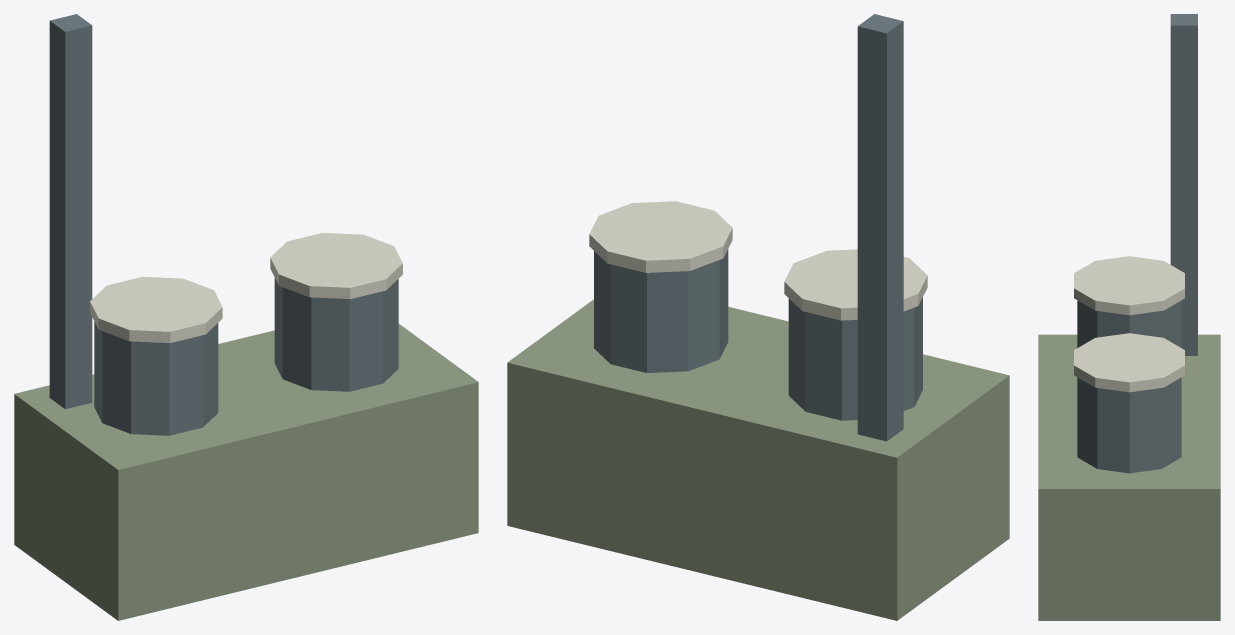
Rendered from zombie-quarantine-streets-field-kitchen-f8e65228__19351.glb.
The picture shows the model from 3 angles, left to right: view 1: azimuth 30°, elevation 25°; view 2: azimuth 150°, elevation 25°; view 3: azimuth 270°, elevation 25°; orthographic projection. The views are drawn at different scales.
Parts seen in each view (by area): view 1: field-kitchen; view 2: field-kitchen; view 3: field-kitchen.
Boxes of the visible parts, x1,y1,x2,y2 form: field-kitchen: [14, 14, 478, 620]; field-kitchen: [507, 14, 1009, 620]; field-kitchen: [1038, 14, 1220, 620].
Bounding box in the file's own units: 2 × 2.8 × 1.
